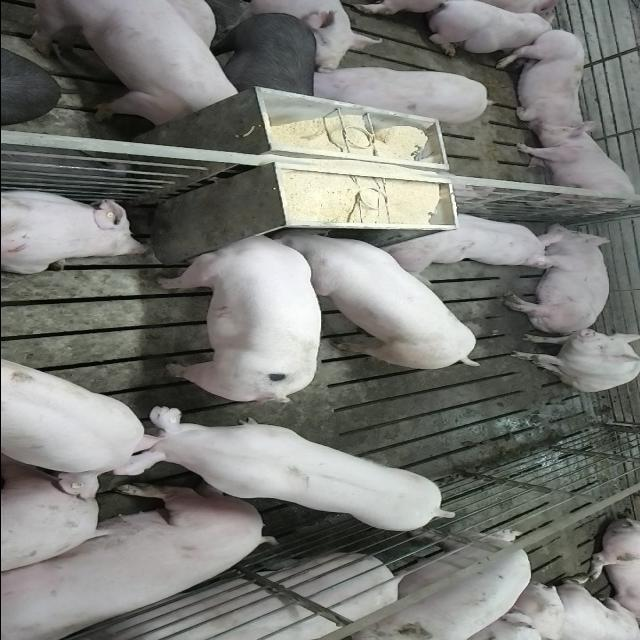Feeding: (274, 228, 480, 376), (156, 232, 322, 408)
Lateral_lying: (0, 481, 273, 636), (502, 222, 616, 336)
Sitting: (506, 328, 638, 392)
Standing: (110, 404, 456, 532), (66, 552, 410, 640), (16, 1, 246, 126), (0, 354, 156, 502), (332, 529, 536, 640), (508, 125, 638, 214), (309, 63, 495, 124), (214, 14, 320, 100)
Sternal_lying: (0, 187, 151, 274), (378, 208, 560, 272), (500, 28, 600, 134), (424, 1, 570, 57)
